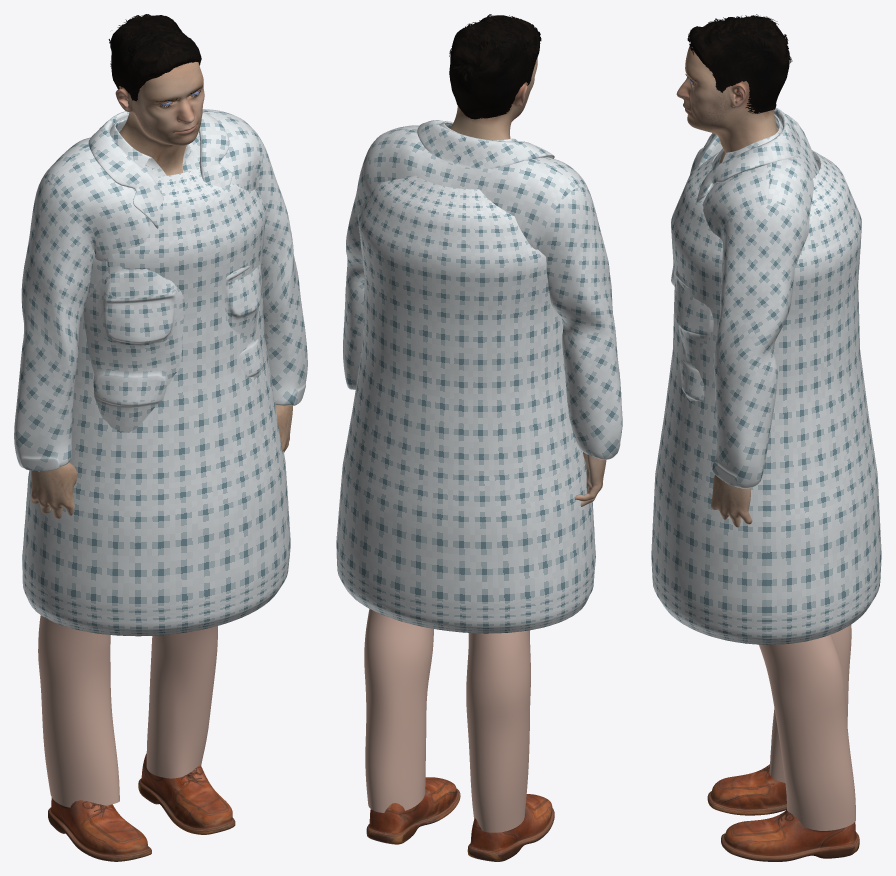
The model's file is patient.glb.
3 views of the same model, side by side, from view 1: azimuth 30°, elevation 25°; view 2: azimuth 150°, elevation 25°; view 3: azimuth 270°, elevation 25° (orthographic). The views are drawn at different scales.
Visible parts, largest first — view 1: Patient_UpperBody_Mesh, Hospital_Gown_One_Piece, man_body, man_body.shoes01, man_body.short01; view 2: Hospital_Gown_One_Piece, Patient_UpperBody_Mesh, man_body.short01, man_body.shoes01, man_body; view 3: Hospital_Gown_One_Piece, Patient_UpperBody_Mesh, man_body.shoes01, man_body.short01, man_body.
Part boxes in pixels (x1=…): Patient_UpperBody_Mesh: x1=14, y1=109, x2=307, y2=807; Hospital_Gown_One_Piece: x1=22, y1=167, x2=290, y2=636; man_body: x1=31, y1=62, x2=292, y2=518; man_body.shoes01: x1=48, y1=753, x2=235, y2=861; man_body.short01: x1=108, y1=14, x2=201, y2=101; Hospital_Gown_One_Piece: x1=336, y1=175, x2=595, y2=633; Patient_UpperBody_Mesh: x1=343, y1=120, x2=622, y2=832; man_body.short01: x1=449, y1=14, x2=541, y2=119; man_body.shoes01: x1=366, y1=777, x2=554, y2=861; man_body: x1=449, y1=57, x2=606, y2=506; Hospital_Gown_One_Piece: x1=651, y1=150, x2=881, y2=644; Patient_UpperBody_Mesh: x1=671, y1=107, x2=855, y2=830; man_body.shoes01: x1=707, y1=764, x2=859, y2=861; man_body.short01: x1=687, y1=14, x2=792, y2=113; man_body: x1=676, y1=46, x2=778, y2=527.
Size of the model in its own units: 0.6591 by 1.79 by 0.4659.
10 materials, 9 textured.
